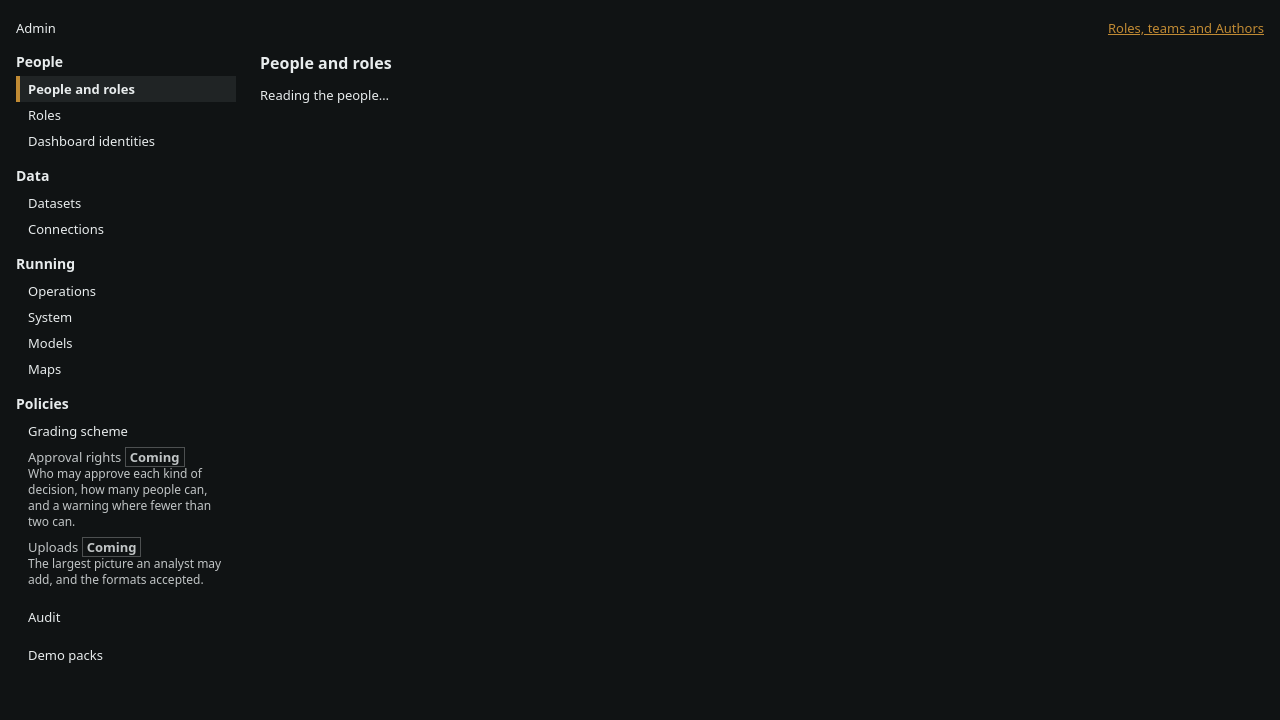
Test: Admin's words: roles by name, never people or ids › in People and roles, nothing names a person in a tip or shows an id
Click the button "People and roles": (128, 89) [20, 76, 236, 102]
(page scrolled)
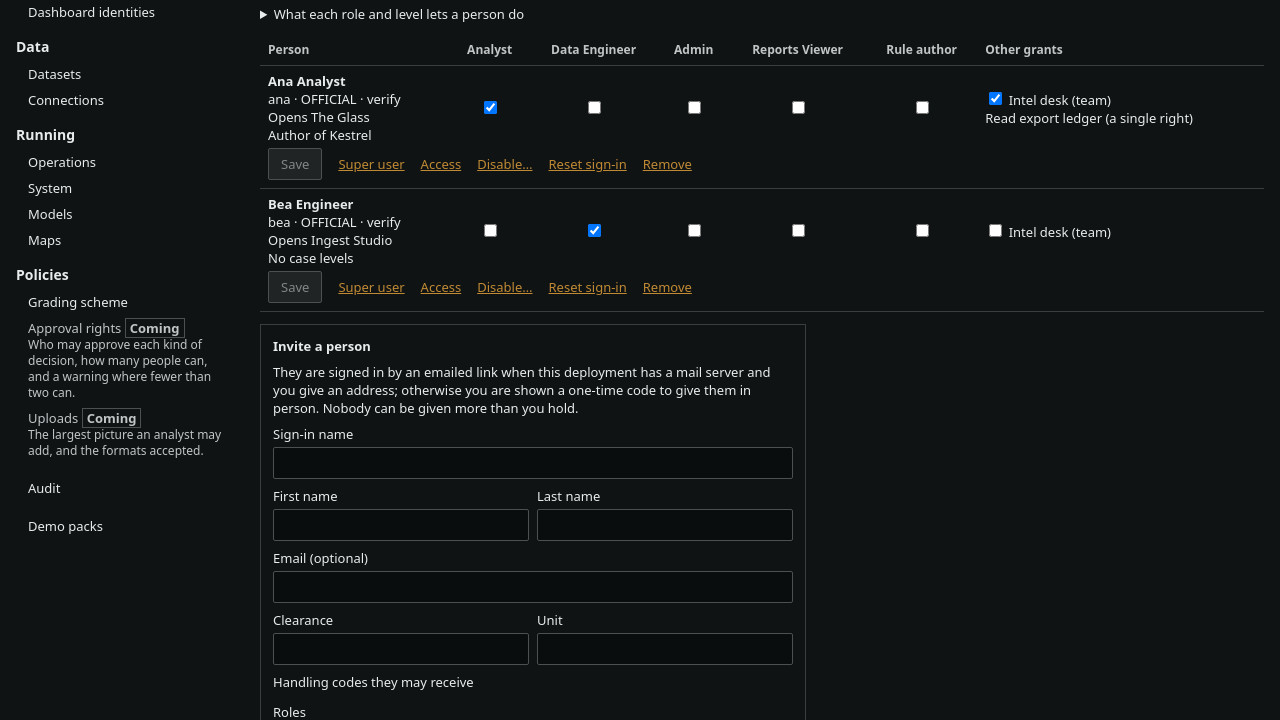
Result: the element with class "admin-place__section" shows "Author of Kestrel" at [268, 126, 372, 144]
